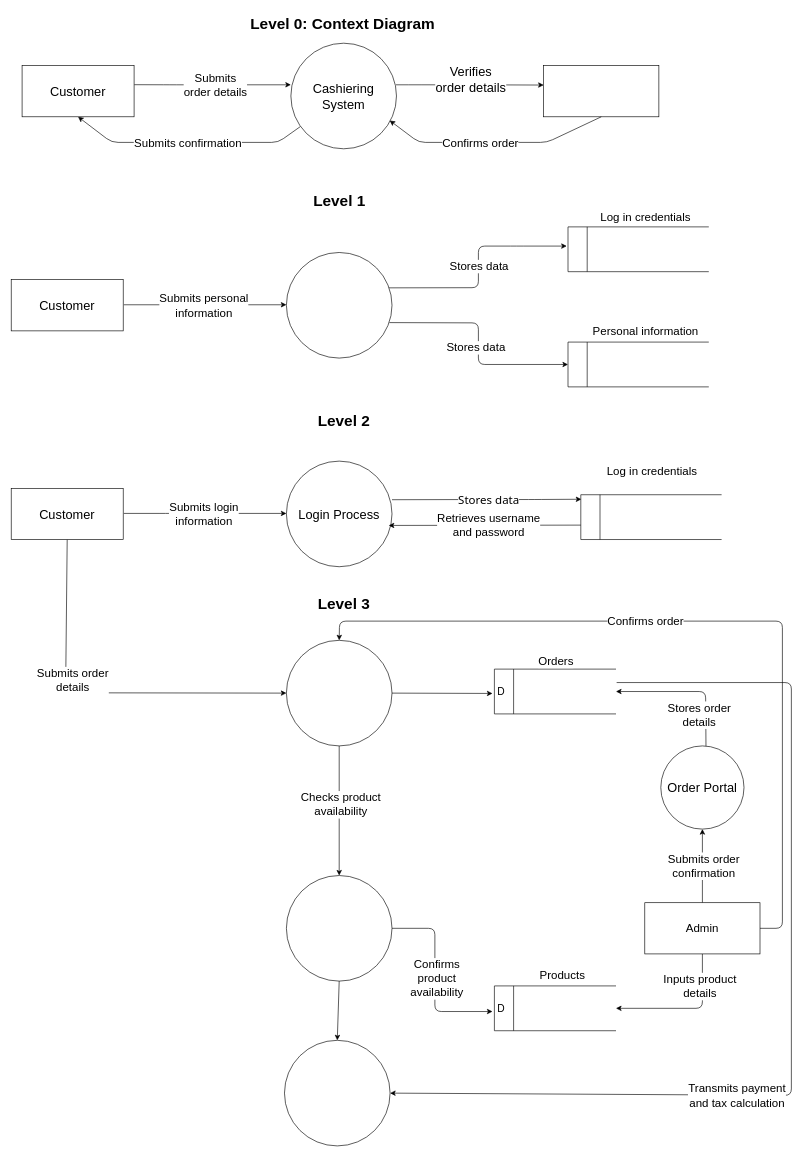
The diagram is 808 pixels wide and 1157 high, and some of its shapes have lost their labels. Each missing label, with the centre of its shape:
"Host/Admin" goes at (601,91).
"Inventory Portal" goes at (339,928).
"Order Process" goes at (339,693).
"Sales Portal" goes at (337,1093).
"Validating Information" goes at (339,305).
